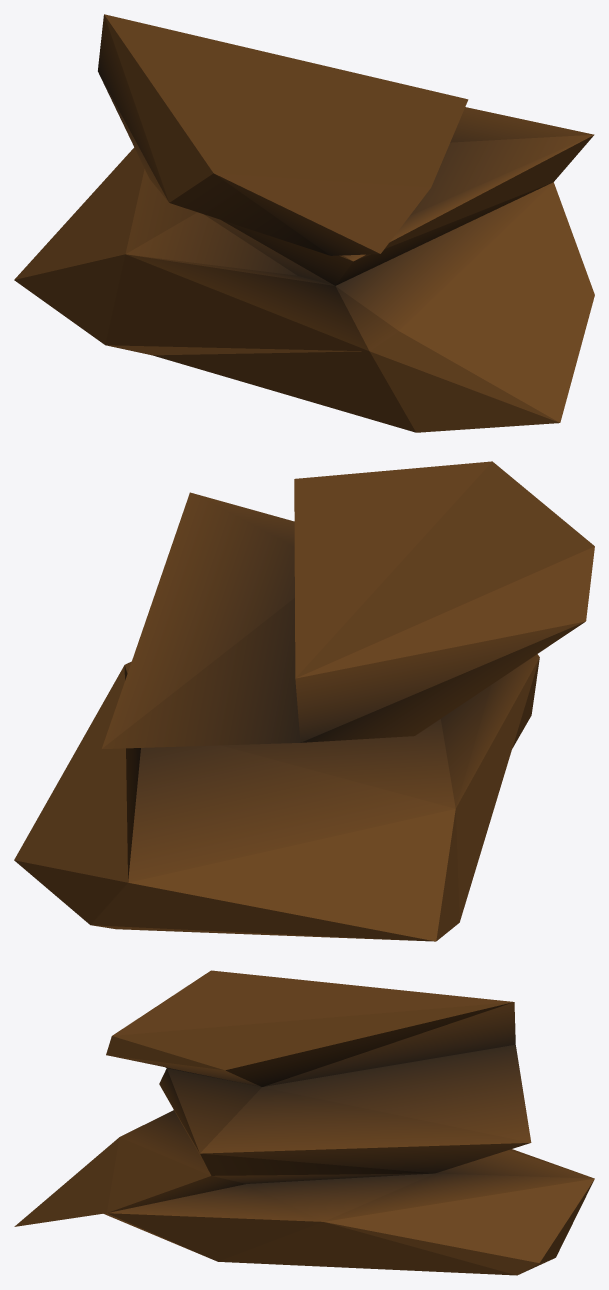
File: c_rock_desert_ac.fbx
3 renders of one model, top to bottom at view 1: azimuth 30°, elevation 25°; view 2: azimuth 150°, elevation 25°; view 3: azimuth 270°, elevation 25°, orthographic. The views are drawn at different scales.
Parts seen in each view (by area): view 1: c_rock_desert_ac; view 2: c_rock_desert_ac; view 3: c_rock_desert_ac.
Boxes of the visible parts, x1,y1,x2,y2 form: c_rock_desert_ac: (14, 14, 594, 432); c_rock_desert_ac: (14, 461, 594, 941); c_rock_desert_ac: (14, 970, 594, 1275).
Size of the model in its own units: 1.53 by 1.04 by 2.41.
